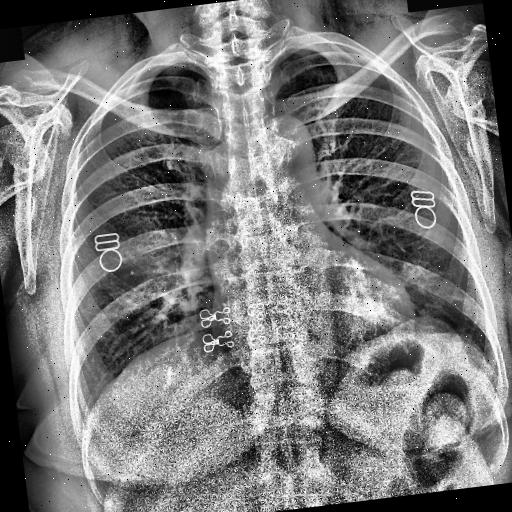0- Aortic enlargement: (246, 112, 318, 188), (255, 110, 318, 192), (263, 113, 312, 165)
9- Other lesion: (396, 302, 486, 370)
